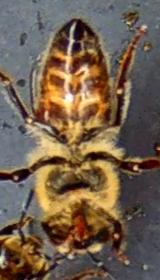varroa_mite: (30, 95, 54, 130)
